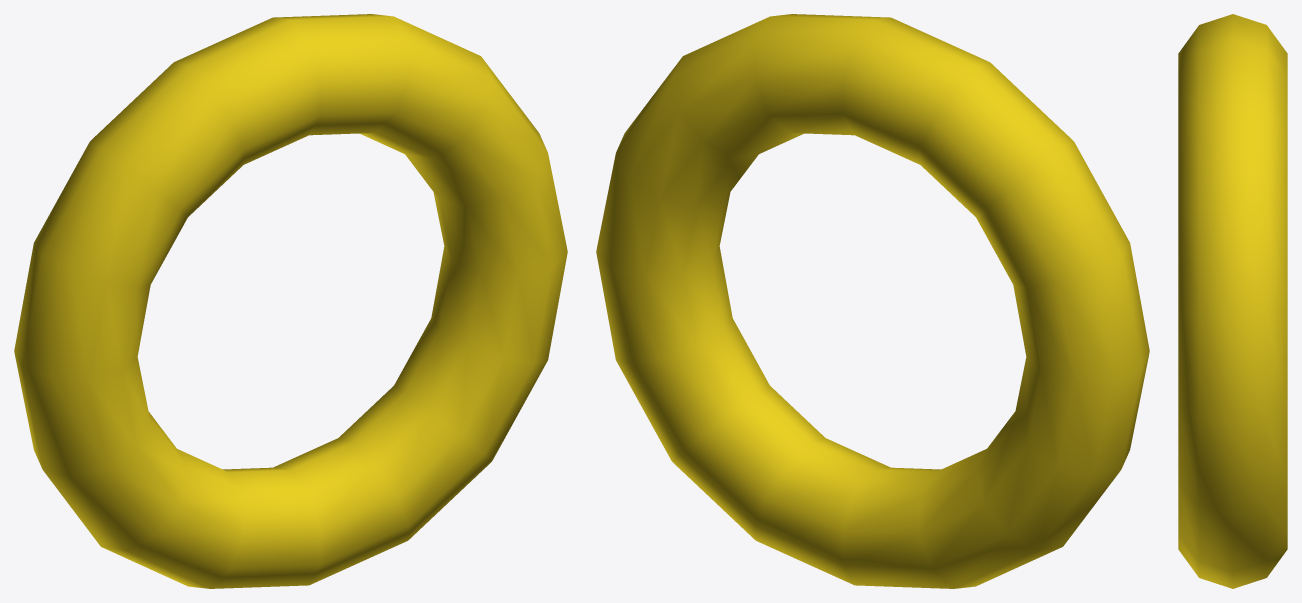
Rendered from Ring.fbx.
The picture shows the model from 3 angles, left to right: view 1: azimuth 30°, elevation 25°; view 2: azimuth 150°, elevation 25°; view 3: azimuth 270°, elevation 25°; orthographic projection. The views are drawn at different scales.
Parts seen in each view (by area): view 1: Torus.001; view 2: Torus.001; view 3: Torus.001.
Part boxes in pixels (bbox=[...]): Torus.001: bbox=[14, 14, 567, 588]; Torus.001: bbox=[596, 14, 1149, 588]; Torus.001: bbox=[1178, 14, 1287, 588].
Size of the model in its own units: 250 by 250 by 47.55.
